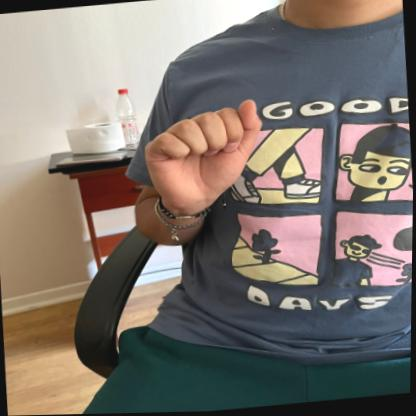A: (144, 101, 270, 210)
